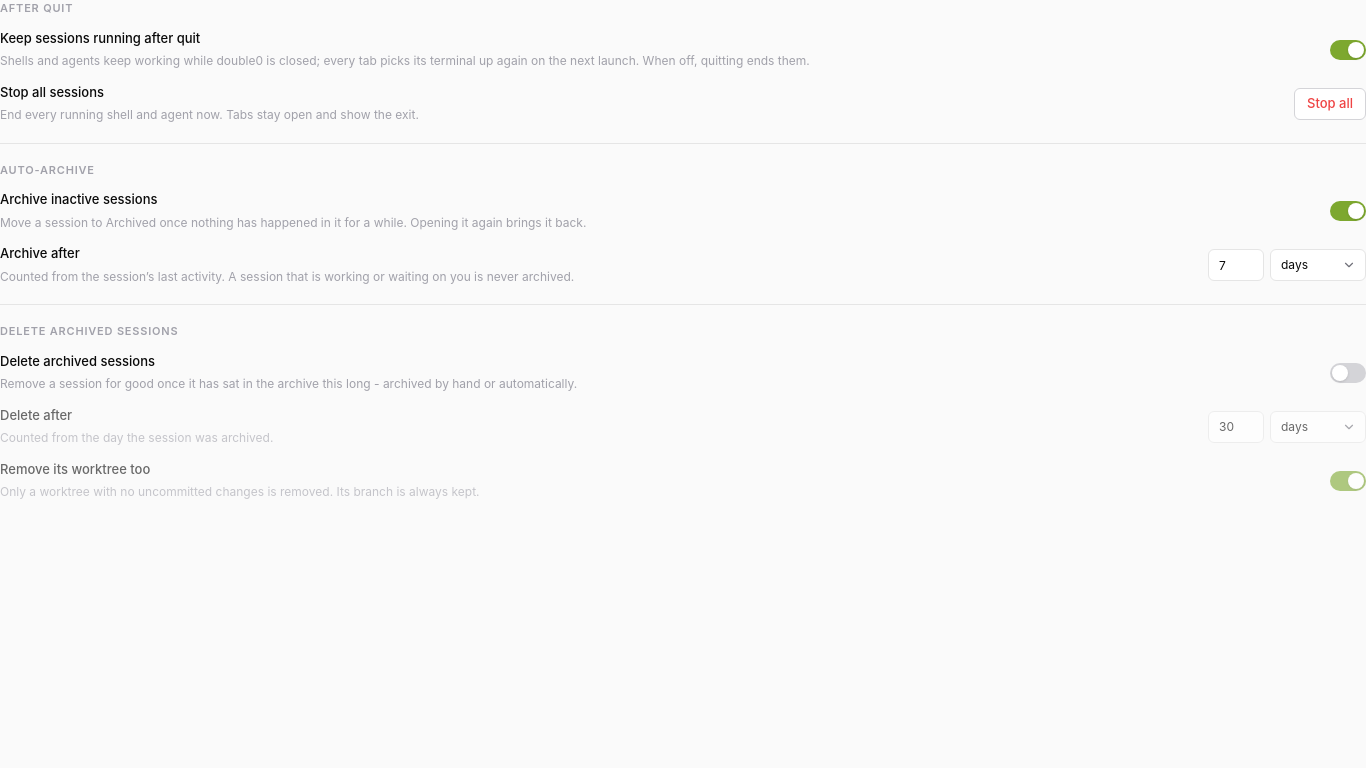
Test: SessionsSettingsSection › asks again when shortening the time would delete more
The image size is (1366, 768).
Click the switch named "Delete archived sessions" at (1348, 372), box [1330, 362, 1365, 382]
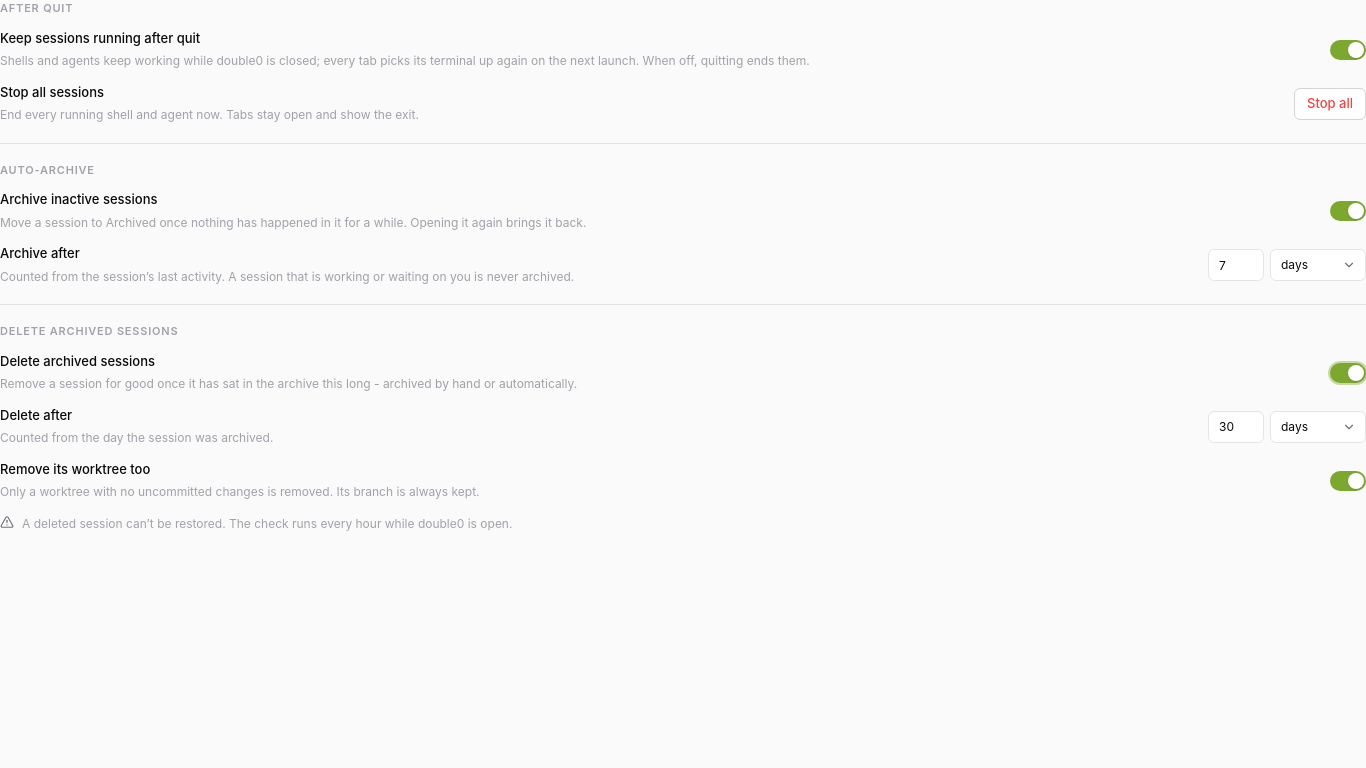
Clear the field named "Delete after amount" at (1236, 426), box [1208, 410, 1264, 442]
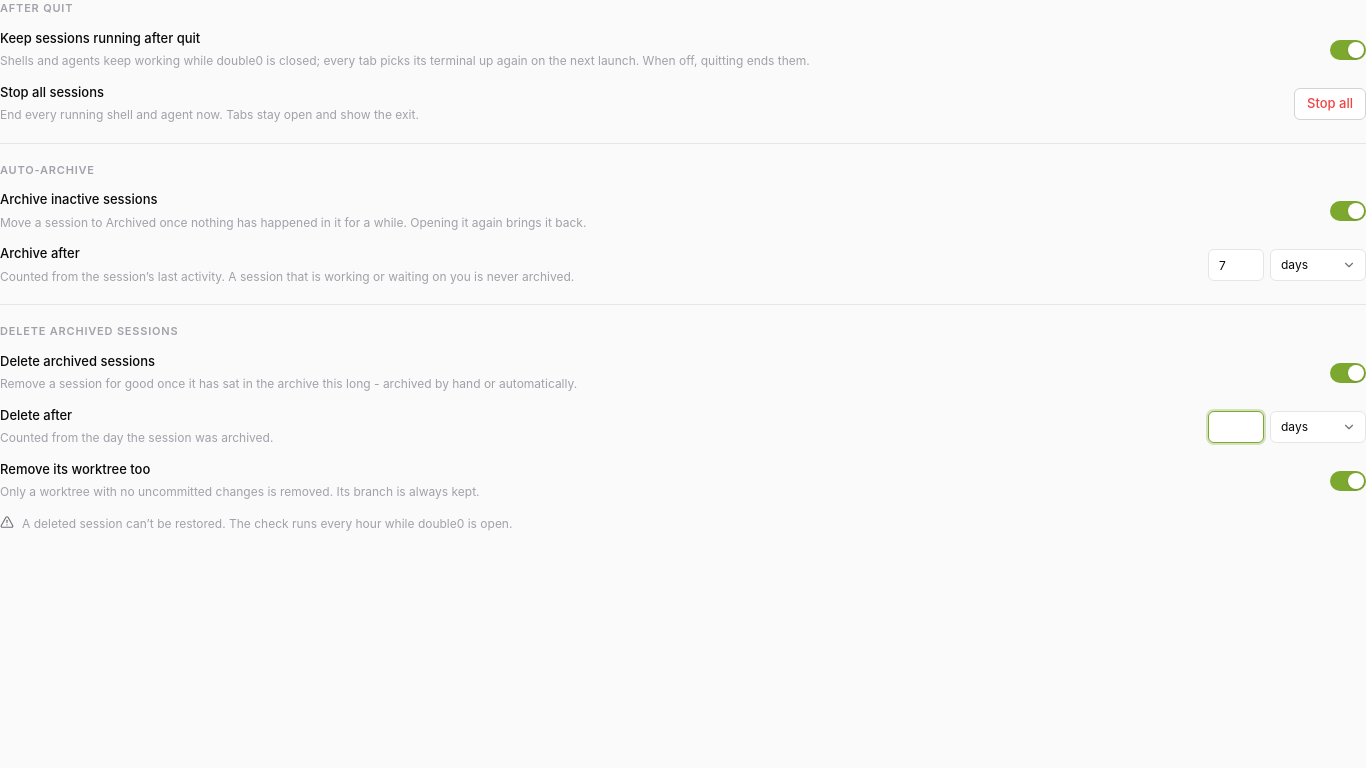
Type keys "7"
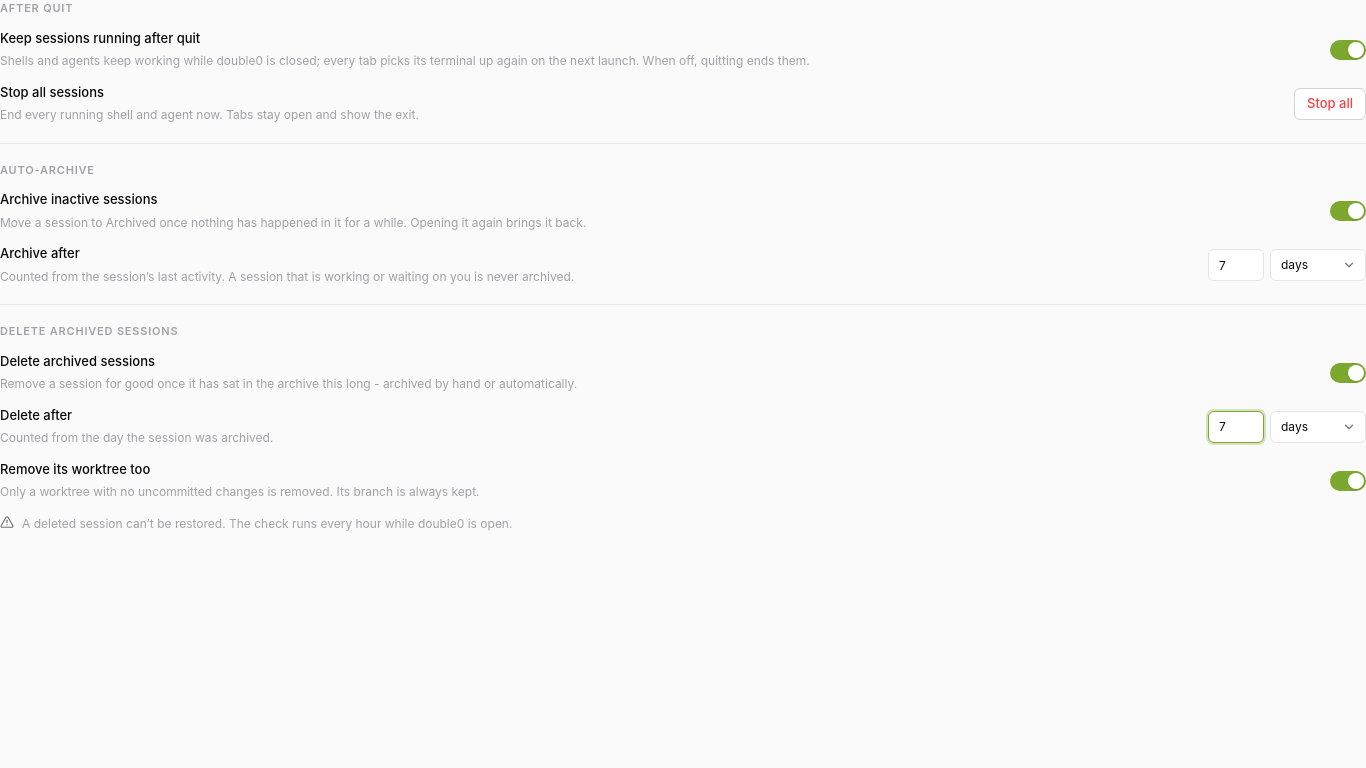
Press Tab
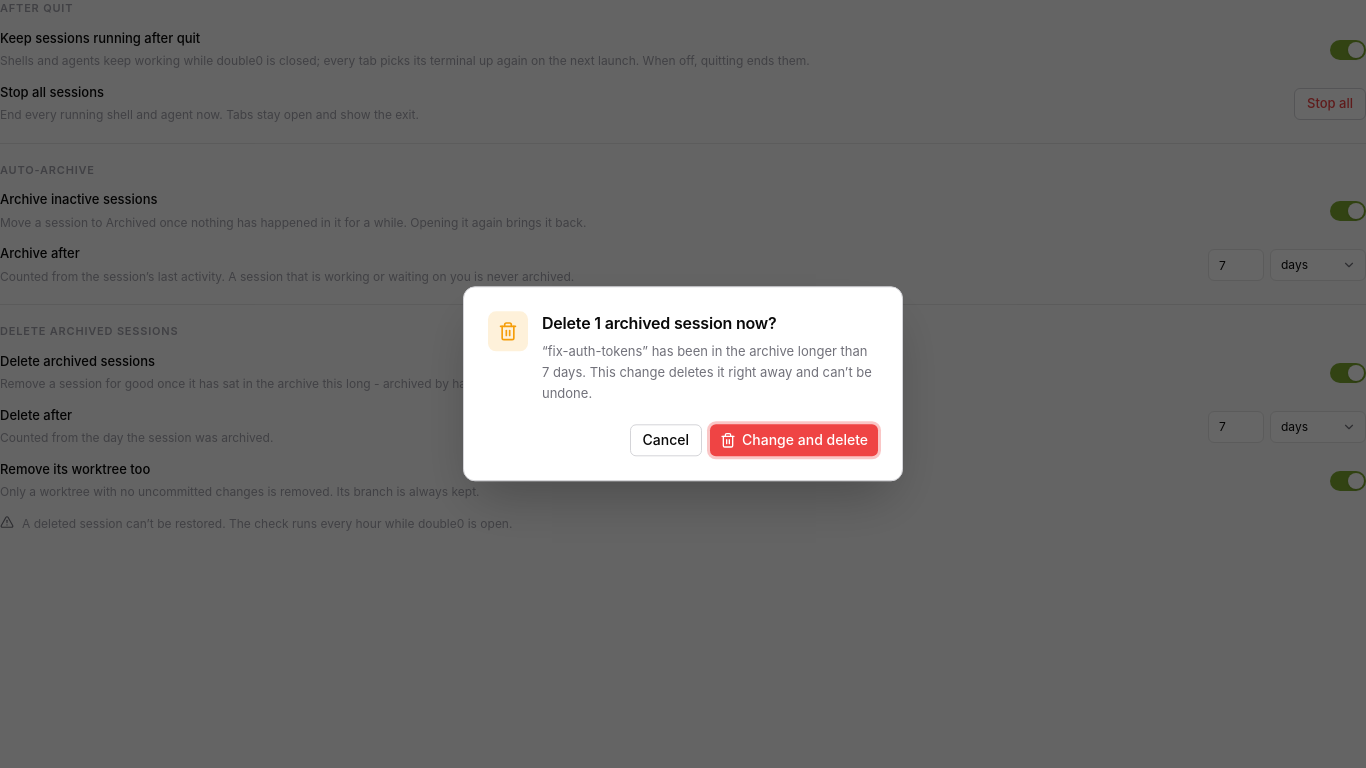
Check: the heading "Delete 1 archived session now?" is shown, box [542, 313, 776, 333]
Click the button "Cancel" at (666, 441), box [630, 425, 702, 457]
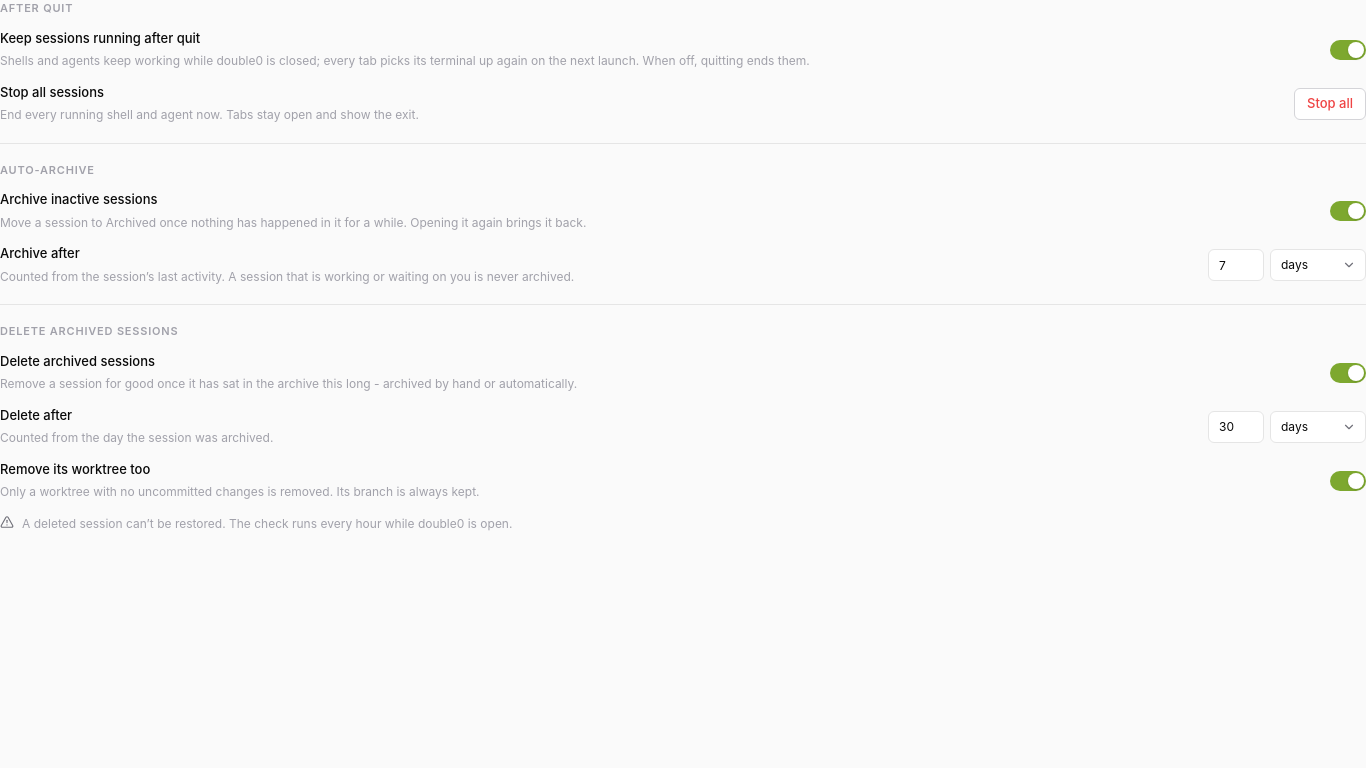
Check: the field named "Delete after amount" holds "30", box [1208, 410, 1264, 442]
